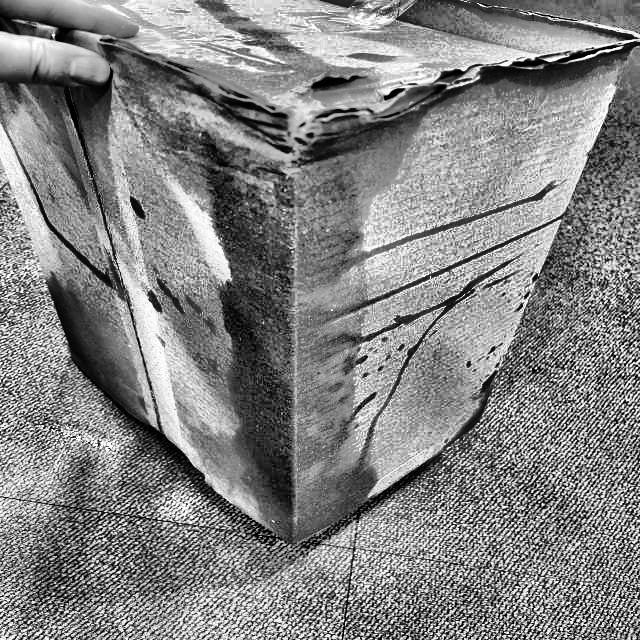box: (0, 0, 639, 582)
wet: (175, 23, 415, 539)
